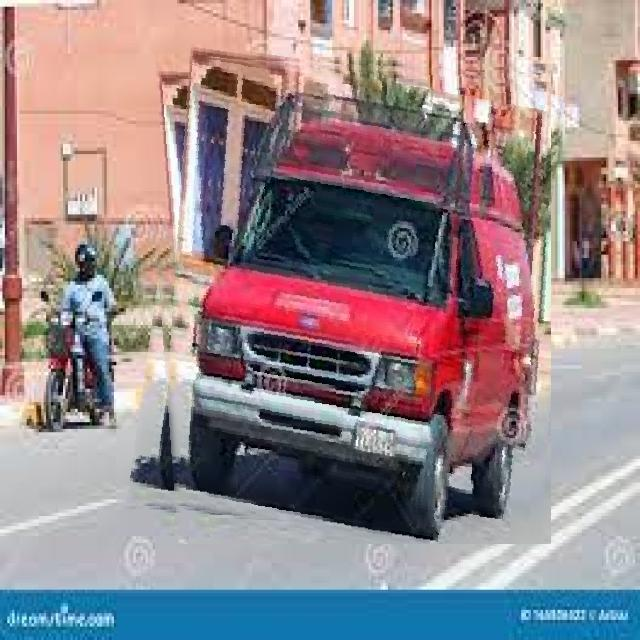ambulance: (142, 55, 551, 544)
